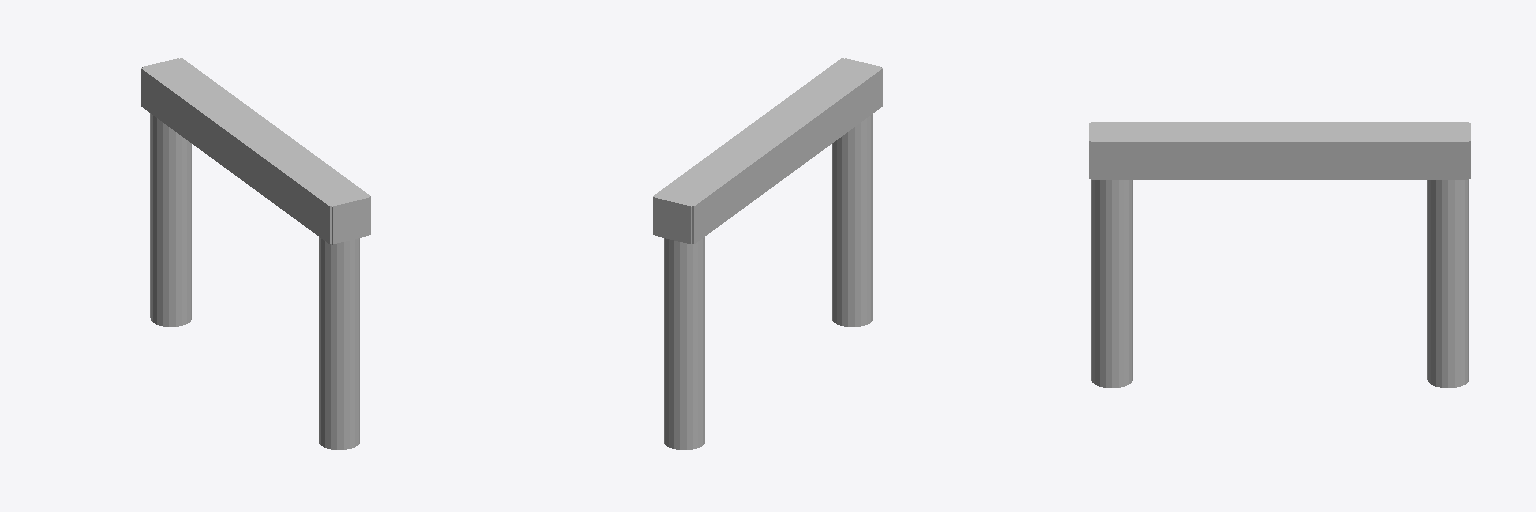
3 views of the same model, side by side, from view 1: azimuth 30°, elevation 25°; view 2: azimuth 150°, elevation 25°; view 3: azimuth 270°, elevation 25° (orthographic).
Parts seen in each view (by area): view 1: DoorW_Cylinder.002; view 2: DoorW_Cylinder.002; view 3: DoorW_Cylinder.002.
Part boxes in pixels (x1,y1,x2,y2): DoorW_Cylinder.002: (141,58,370,449); DoorW_Cylinder.002: (653,58,882,449); DoorW_Cylinder.002: (1089,122,1470,387).
Size of the model in its own units: 0.5706 by 3.25 by 4.54.